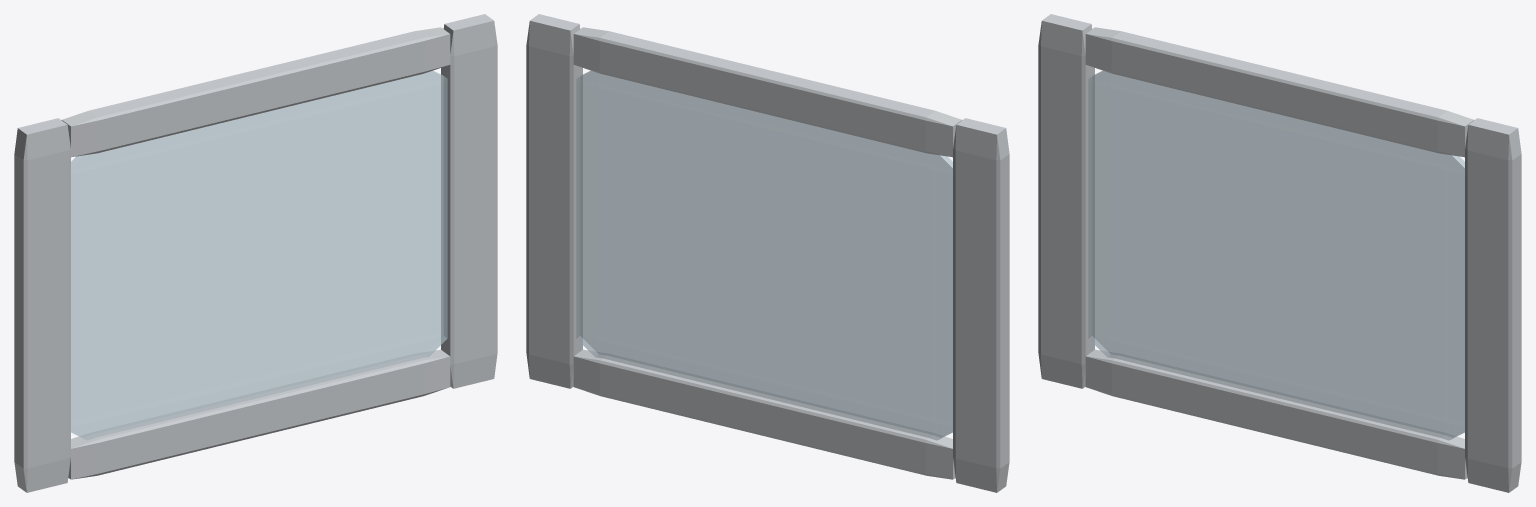
Rendered from b21_window_shopfront_3_6m.glb.
3 views of the same model, side by side, from view 1: azimuth 30°, elevation 25°; view 2: azimuth 150°, elevation 25°; view 3: azimuth 330°, elevation 25° (orthographic).
Visible parts, largest first — view 1: b21_window_shopfront_3_6m; view 2: b21_window_shopfront_3_6m; view 3: b21_window_shopfront_3_6m.
Part boxes in pixels (x1=…): b21_window_shopfront_3_6m: x1=14, y1=14, x2=497, y2=492; b21_window_shopfront_3_6m: x1=526, y1=14, x2=1009, y2=492; b21_window_shopfront_3_6m: x1=1038, y1=14, x2=1521, y2=492.
Size of the model in its own units: 3.6 by 2.6 by 0.14.
